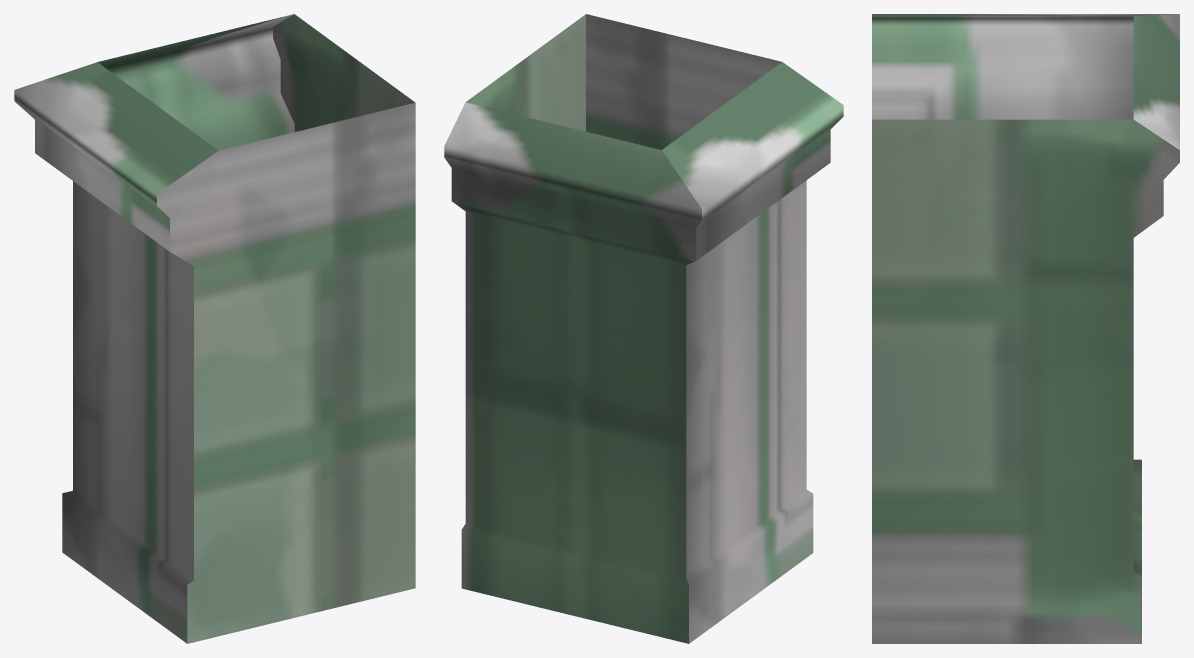
The model's file is qVin_Buld1_ColumnRight.fbx.
3 renders of one model, left to right at view 1: azimuth 30°, elevation 25°; view 2: azimuth 150°, elevation 25°; view 3: azimuth 270°, elevation 25°, orthographic. The views are drawn at different scales.
Visible parts, largest first — view 1: qVin_Buld1_ColumnRight; view 2: qVin_Buld1_ColumnRight; view 3: qVin_Buld1_ColumnRight.
Boxes of the visible parts, x1,y1,x2,y2 form: qVin_Buld1_ColumnRight: (14, 14, 415, 643); qVin_Buld1_ColumnRight: (444, 14, 843, 643); qVin_Buld1_ColumnRight: (872, 14, 1179, 643).
Bounding box in the file's own units: 140 × 251 × 133.
Materials: 1 (1 with a texture image).
